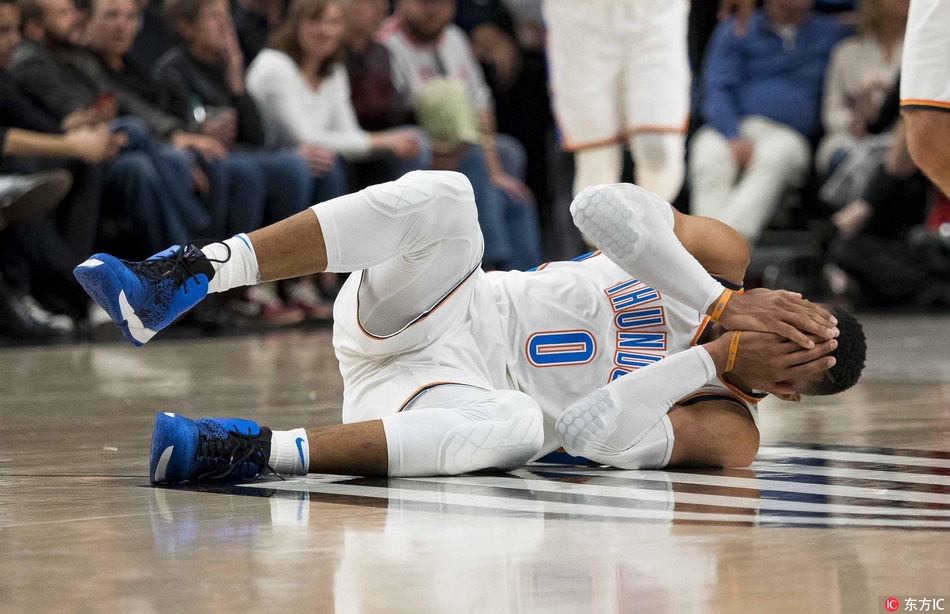10+: (1, 1, 949, 495)
down: (68, 160, 880, 498)
